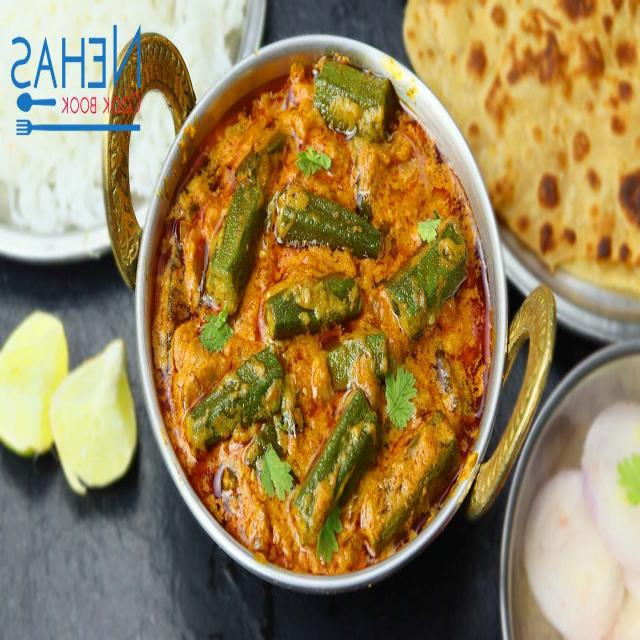Bhindi Masala: (148, 64, 491, 565)
